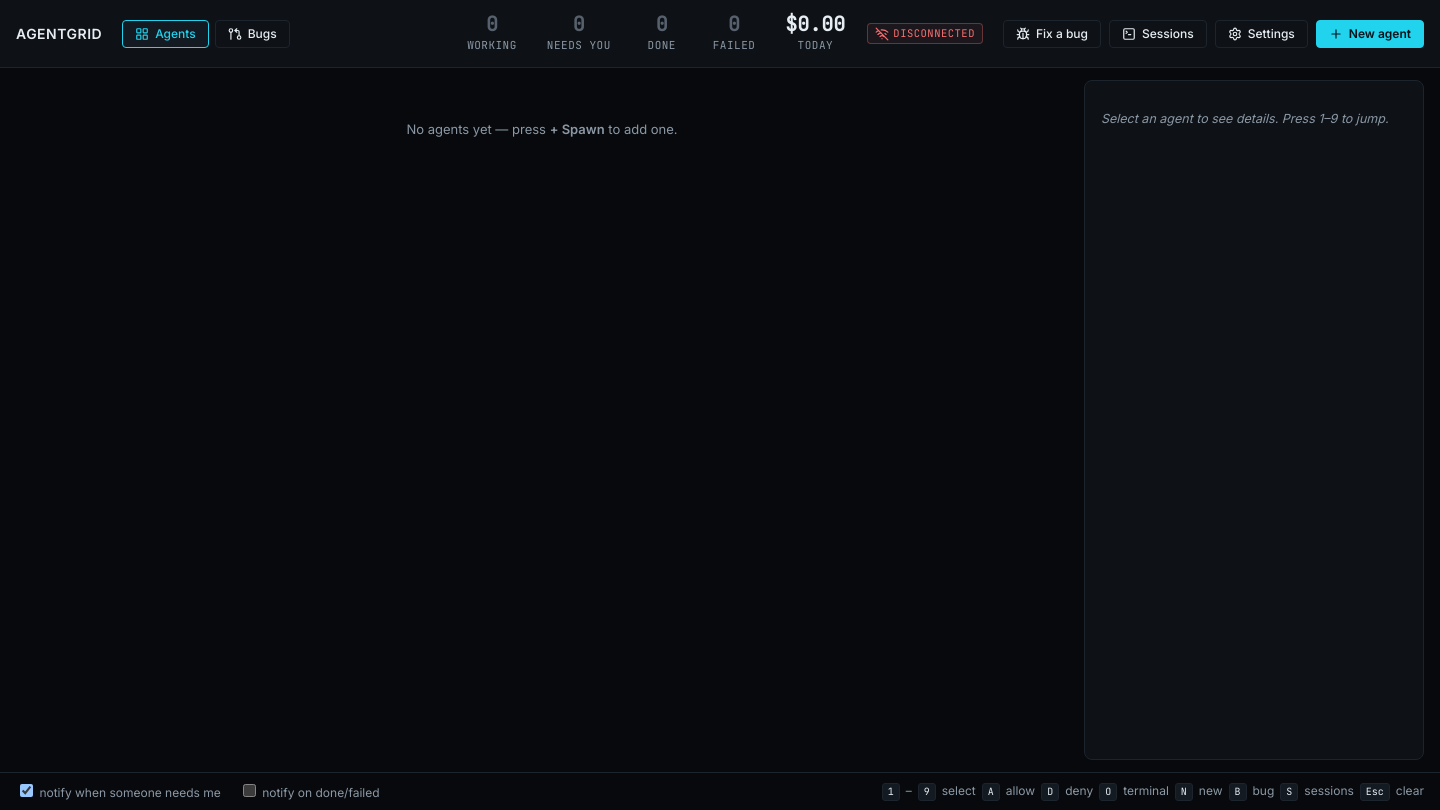
App Escape handling › the Bugs button switches to the bug screen and back, and the hash follows
The width and height of the screenshot is (1440, 810).
Step 1. Click the button "Bugs" → (252, 34), box [215,20,290,48]
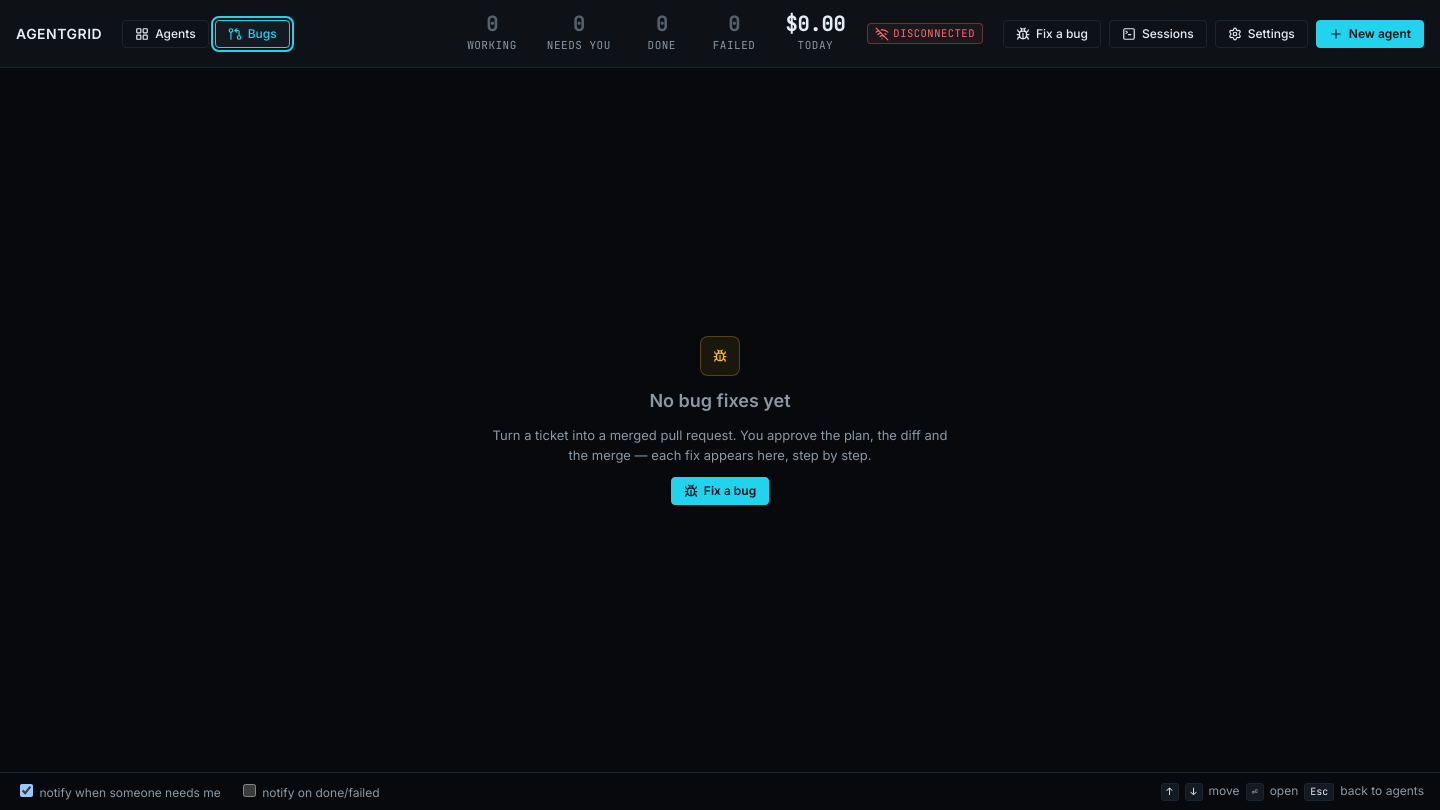
Expected: the element with test id "bug-screen" is shown, [493,336,947,505]
Step 2. Click the button "Agents" → (165, 34), box [122,20,209,48]
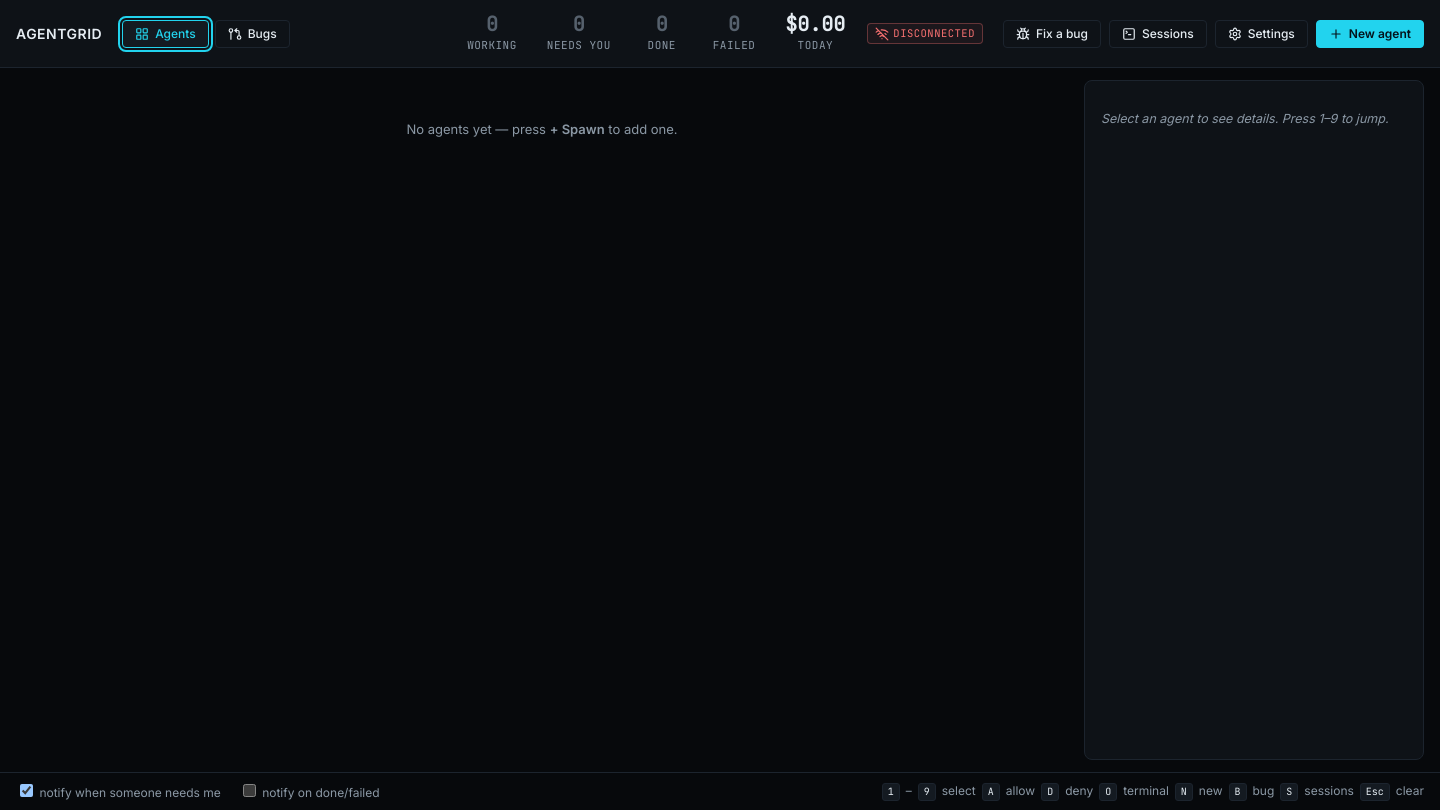
Expected: the element with test id "bug-screen" is gone
